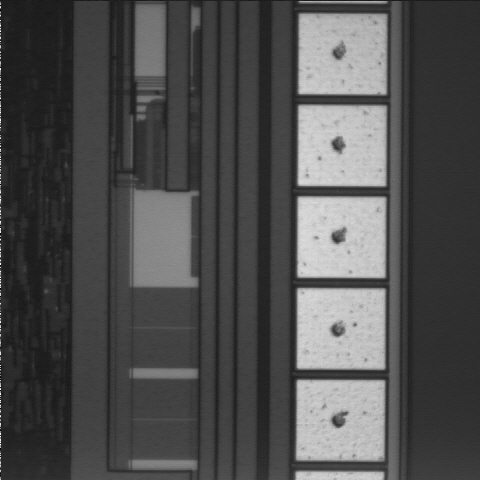pad: (298, 197, 385, 278), (297, 289, 385, 369), (298, 106, 385, 186), (297, 380, 384, 460), (299, 15, 386, 94)
